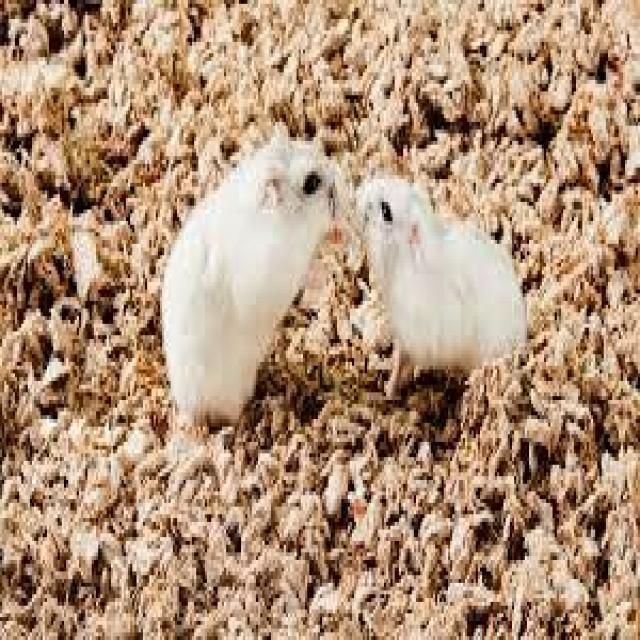hamster: (160, 126, 350, 419), (356, 175, 525, 392)
